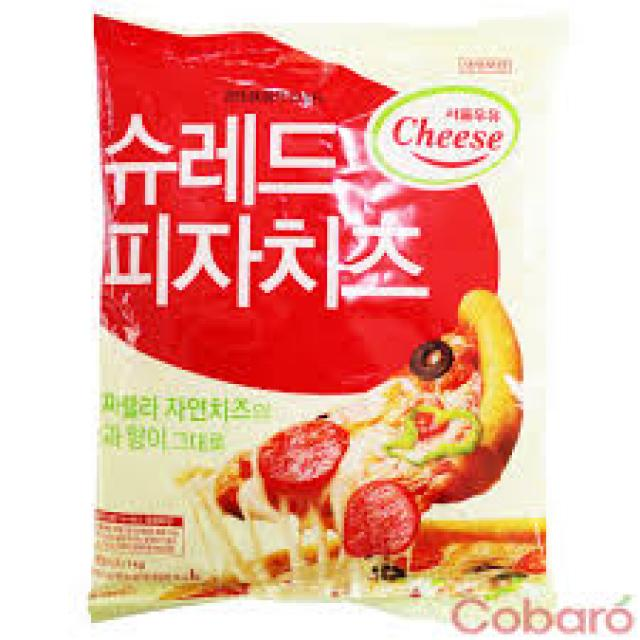Cheese: (94, 14, 535, 592)
